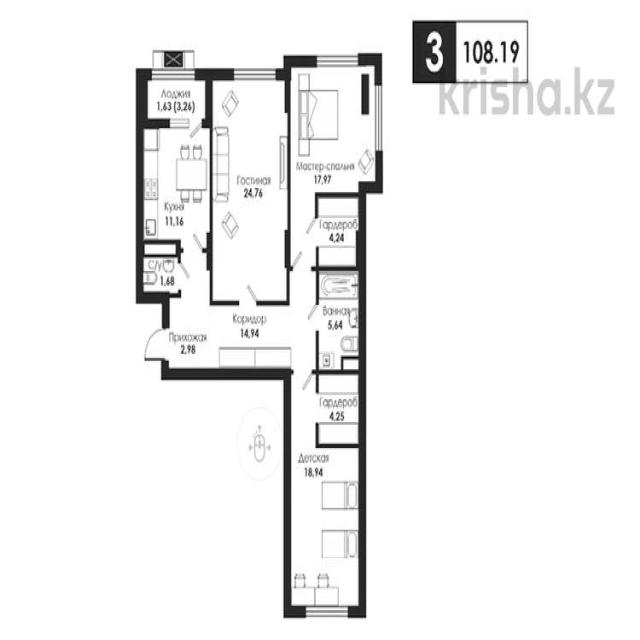balcony: (143, 71, 206, 122)
bathroom: (316, 270, 358, 370), (139, 252, 178, 296)
hallway: (166, 300, 288, 368), (290, 191, 314, 449)
kitchen: (139, 124, 209, 240)
living_room: (210, 77, 287, 298), (289, 64, 378, 192), (289, 448, 359, 607)
other: (316, 196, 359, 268), (317, 374, 361, 444)
